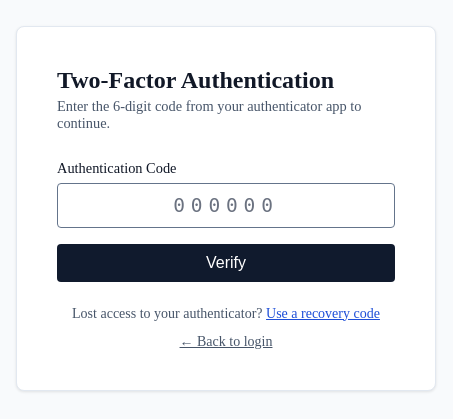
Test: MfaVerifyPage submission › shows error when code is empty on submit
Click the button "Verify": x=226, y=262 [57,244,395,282]
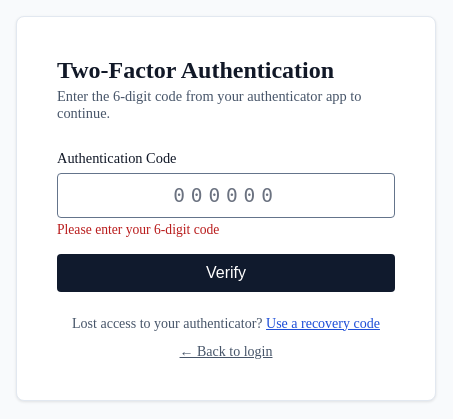
Now the message reads "Please enter your 6-digit code", box [57,222,219,236]
